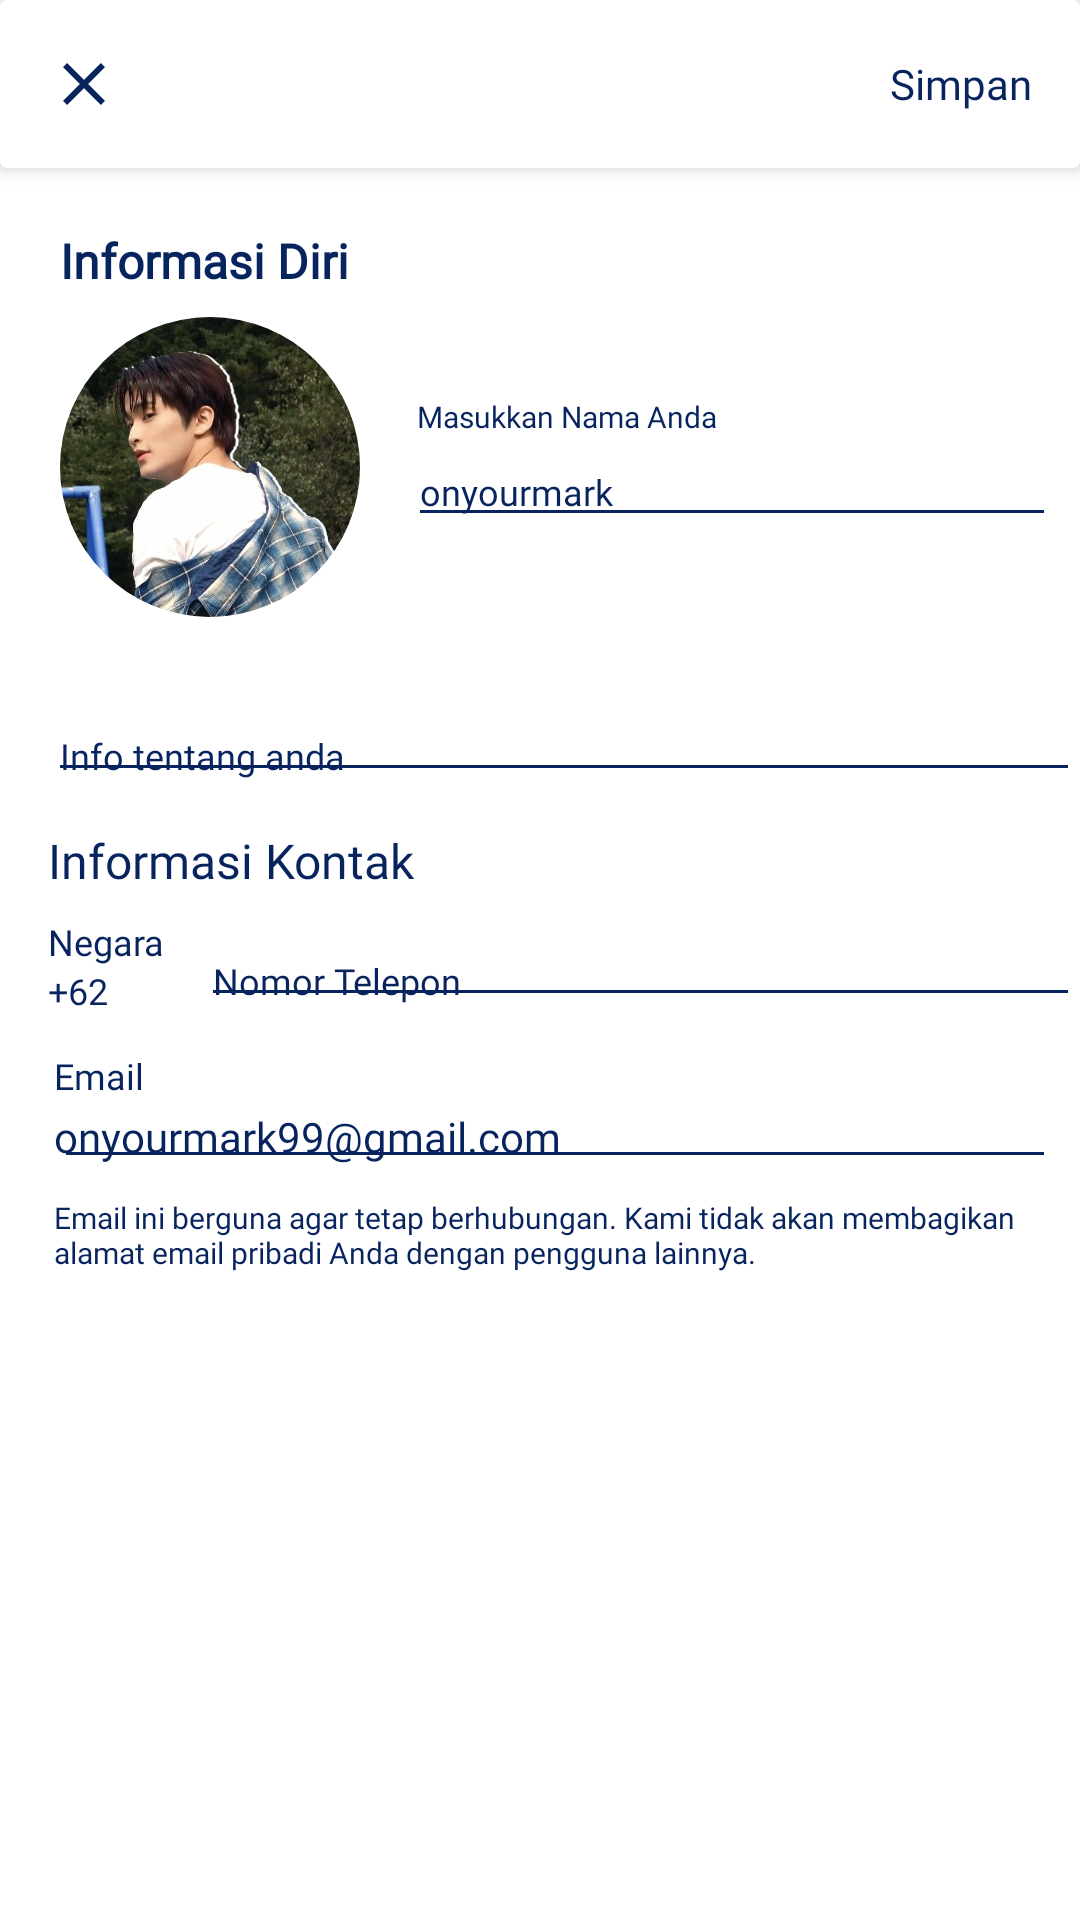

Locate icon controls on the screen. Image size 1080*1920, boxes as box=[x1, y1, x2, y2].
profilepict: box=[60, 317, 360, 617]
Tutup: box=[63, 63, 105, 105]
